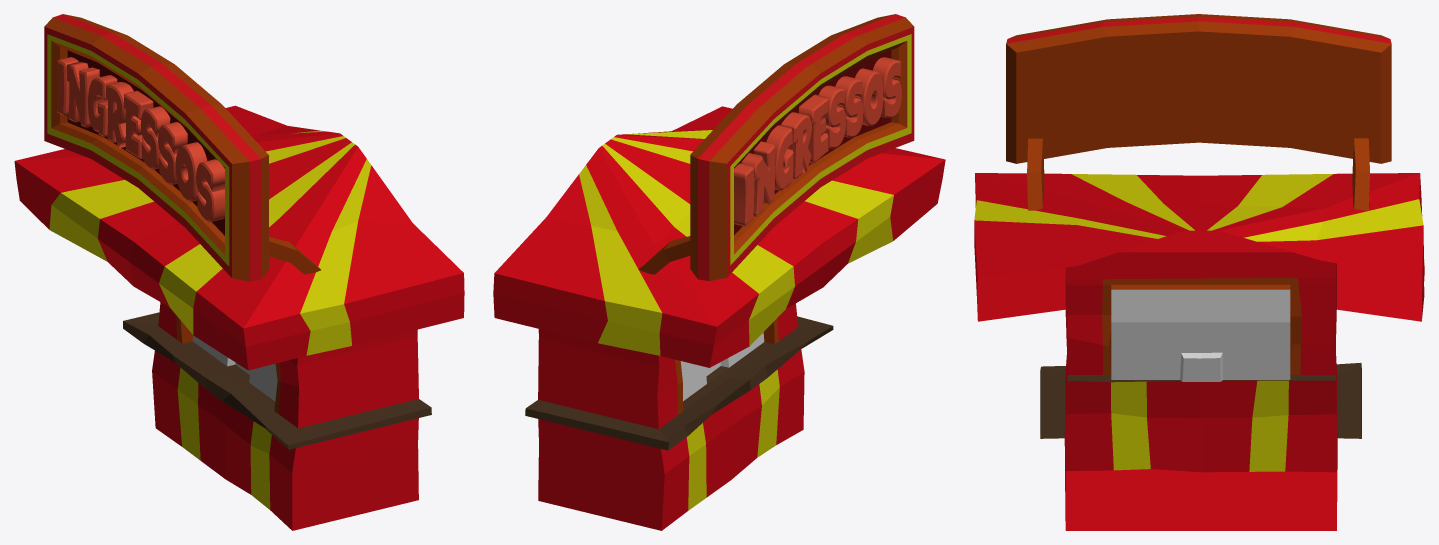
File: Fase1_Bilheteria_lightness.fbx
3 views of the same model, side by side, from view 1: azimuth 30°, elevation 25°; view 2: azimuth 150°, elevation 25°; view 3: azimuth 270°, elevation 25° (orthographic). The views are drawn at different scales.
Parts seen in each view (by area): view 1: Bilheteria Lightness, Placa Lightness, Texto Lightness; view 2: Bilheteria Lightness, Placa Lightness, Texto Lightness; view 3: Bilheteria Lightness, Placa Lightness.
Boxes of the visible parts, x1=… form: Bilheteria Lightness: x1=14, y1=105, x2=464, y2=530; Placa Lightness: x1=44, y1=14, x2=320, y2=281; Texto Lightness: x1=57, y1=57, x2=224, y2=222; Bilheteria Lightness: x1=493, y1=106, x2=945, y2=530; Placa Lightness: x1=638, y1=14, x2=914, y2=281; Texto Lightness: x1=734, y1=57, x2=901, y2=226; Bilheteria Lightness: x1=974, y1=173, x2=1424, y2=530; Placa Lightness: x1=1006, y1=14, x2=1391, y2=210.
Bounding box in the file's own units: 1.84 × 3.42 × 3.32.
